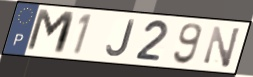1: (72, 13, 93, 57)
2: (134, 18, 171, 65)
9: (172, 21, 205, 66)
J: (105, 18, 137, 58)
M: (24, 7, 78, 57)
N: (202, 24, 243, 70)
